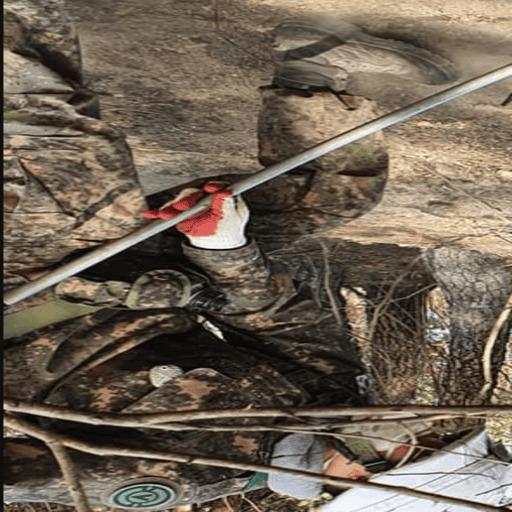korea army: (4, 4, 508, 509)
